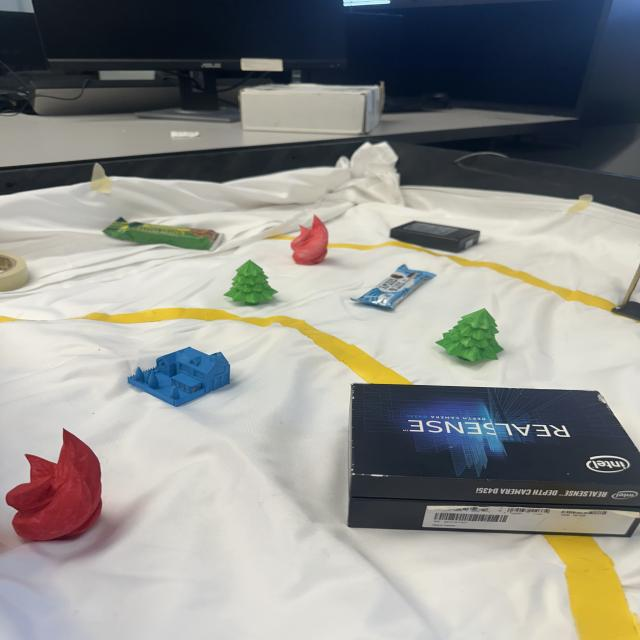fire: (5, 426, 106, 543), (289, 214, 328, 265)
house: (124, 343, 235, 409)
tree: (433, 306, 506, 364), (224, 258, 280, 306)
